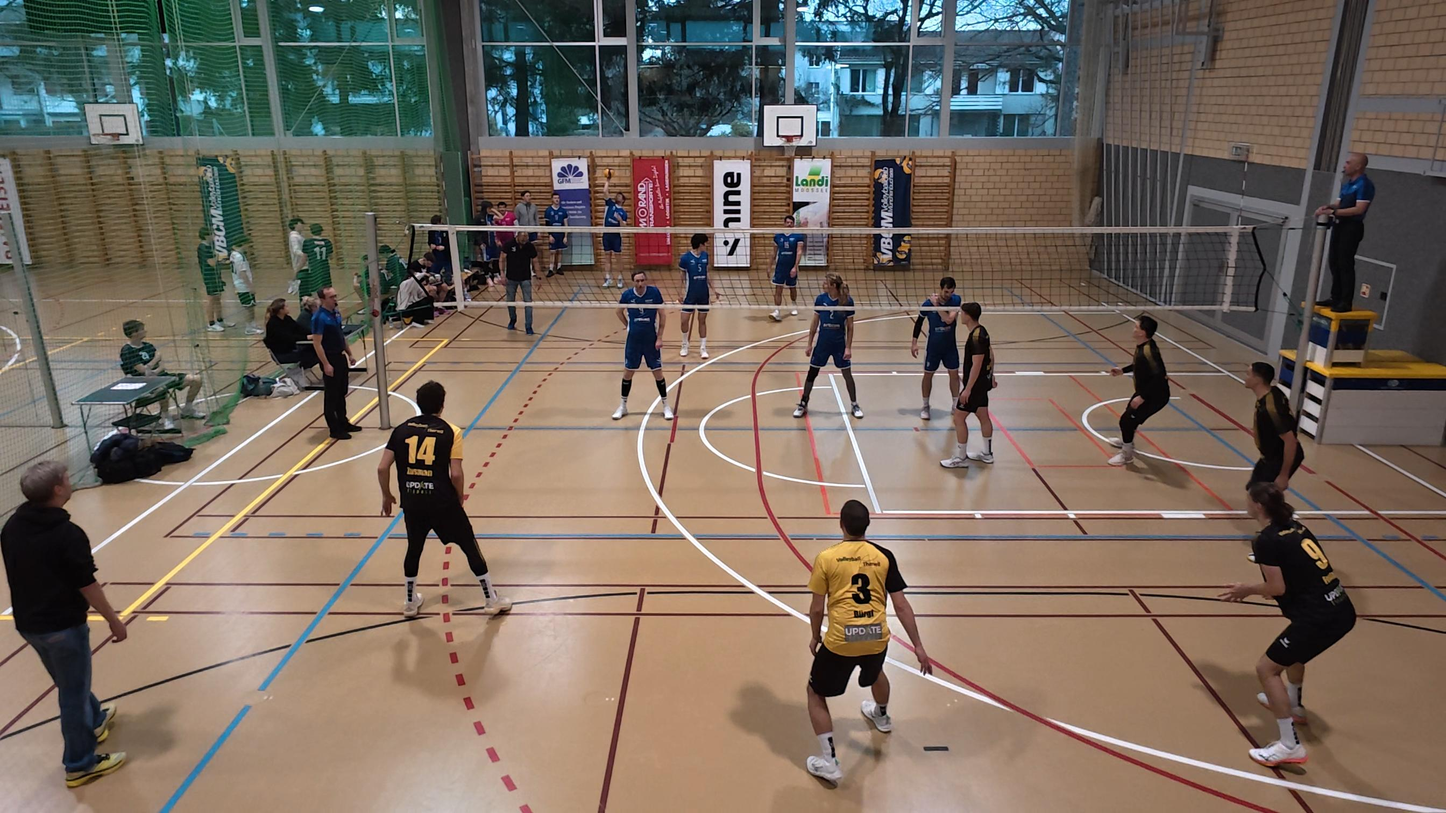battuta: (590, 166, 629, 295)
